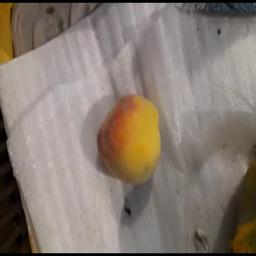Peach Semifresh: (84, 88, 175, 191)
